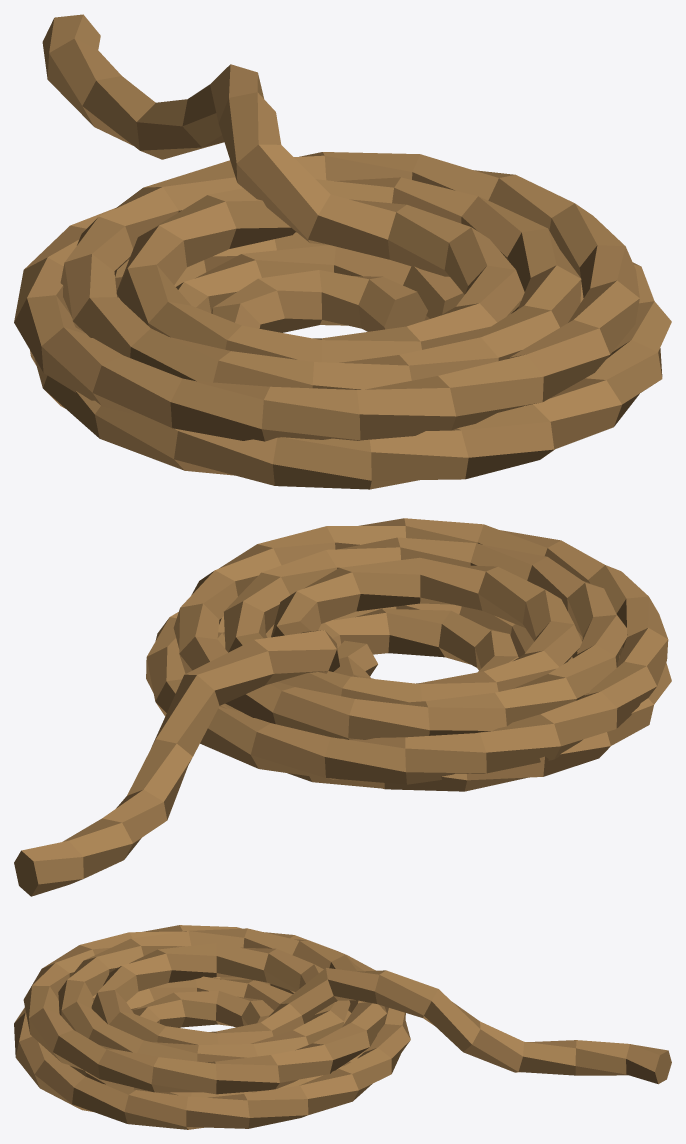
File: coiled-rope_final.glb
3 renders of one model, top to bottom at view 1: azimuth 30°, elevation 25°; view 2: azimuth 150°, elevation 25°; view 3: azimuth 270°, elevation 25°, orthographic. The views are drawn at different scales.
Parts seen in each view (by area): view 1: SM_CoiledRope; view 2: SM_CoiledRope; view 3: SM_CoiledRope.
Part boxes in pixels (<box>): SM_CoiledRope: <box>14,14,671,489</box>; SM_CoiledRope: <box>14,518,671,896</box>; SM_CoiledRope: <box>14,925,671,1129</box>.
Size of the model in its own units: 0.3966 by 0.1056 by 0.6648.
